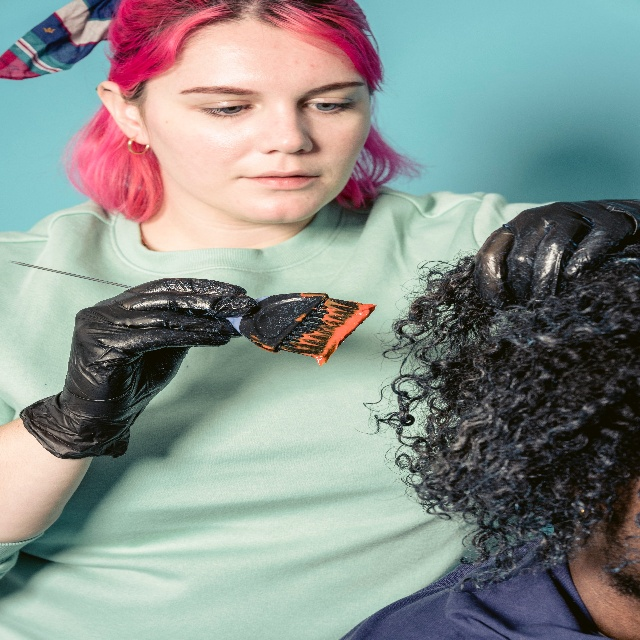Guantes: (20, 277, 262, 459), (474, 200, 640, 301)
